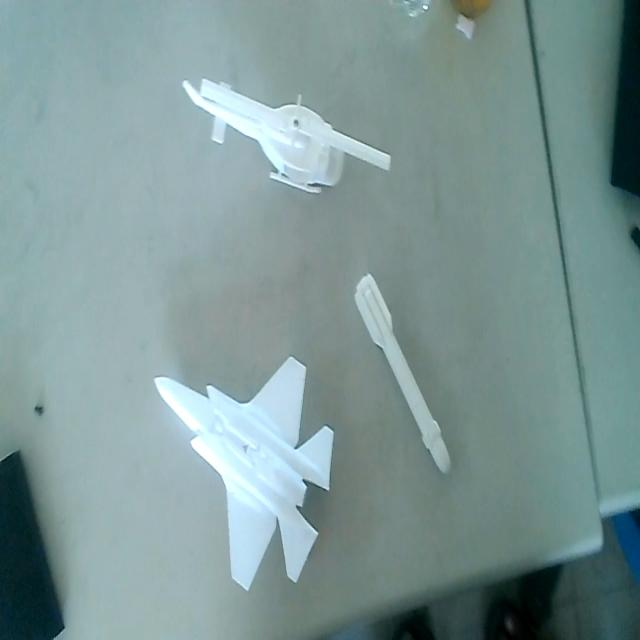Helicopter: (180, 69, 392, 204)
Jet: (150, 346, 336, 596)
Rocket: (354, 267, 453, 482)
